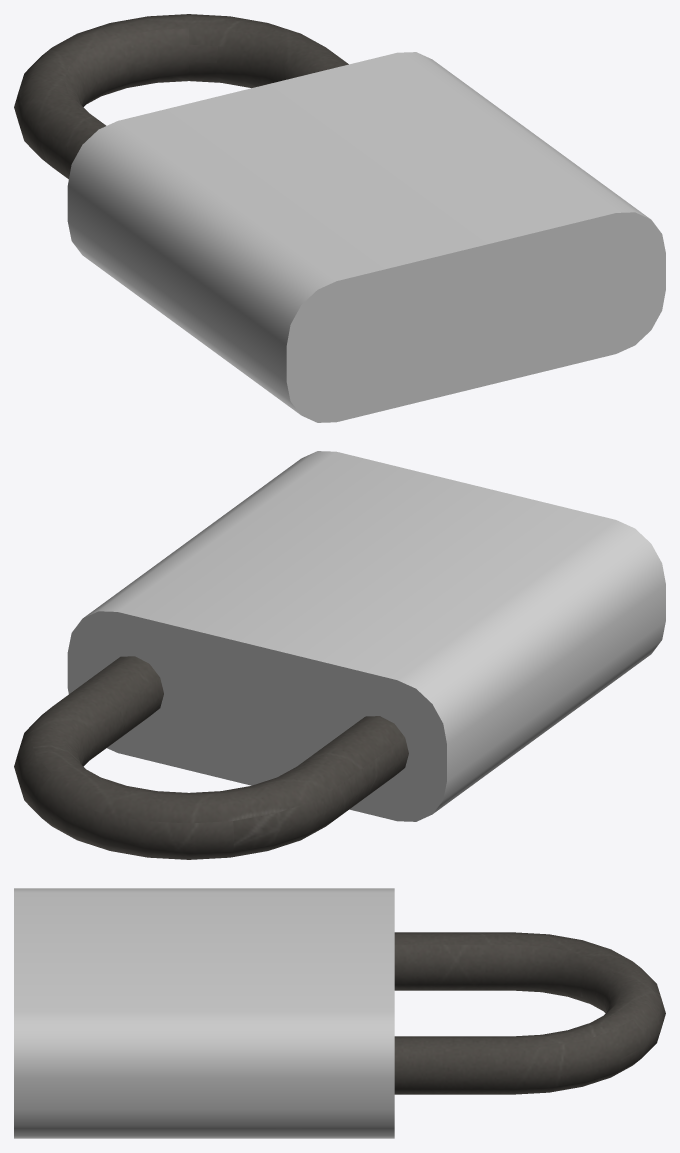
File: cadena.fbx
3 renders of one model, top to bottom at view 1: azimuth 30°, elevation 25°; view 2: azimuth 150°, elevation 25°; view 3: azimuth 270°, elevation 25°, orthographic. The views are drawn at different scales.
Visible parts, largest first — view 1: Cylinder; view 2: Cylinder; view 3: Cylinder.
Part boxes in pixels (bbox=[...]): Cylinder: bbox=[14, 14, 665, 422]; Cylinder: bbox=[14, 451, 665, 859]; Cylinder: bbox=[14, 888, 665, 1138].
Size of the model in its own units: 5.89 by 2.09 by 10.09.
